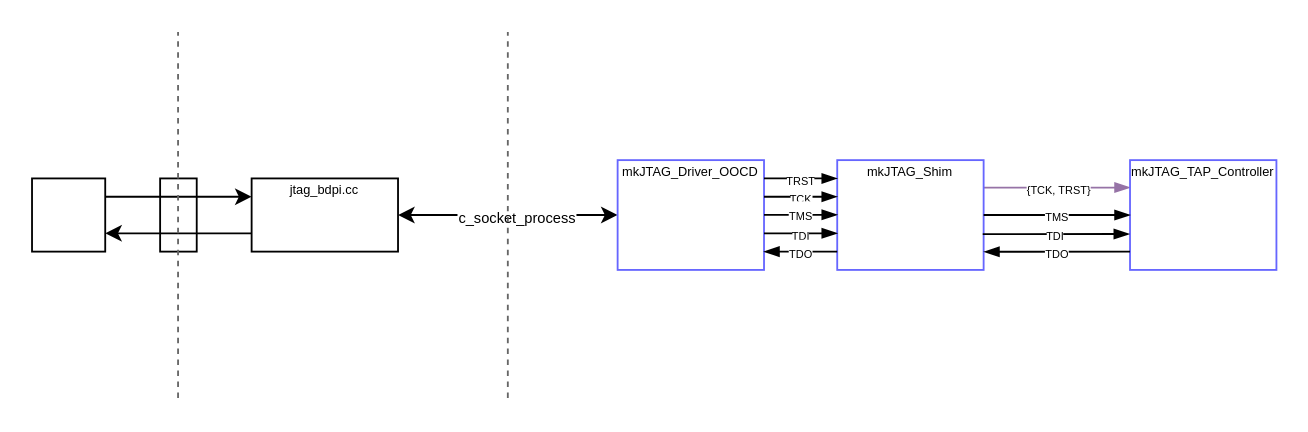
This 1308x432 diagram has some shape labels left out. Each missing label, with the box of its shape:
OOCD: (30, 177, 105, 252)
socket: (158, 177, 197, 252)
